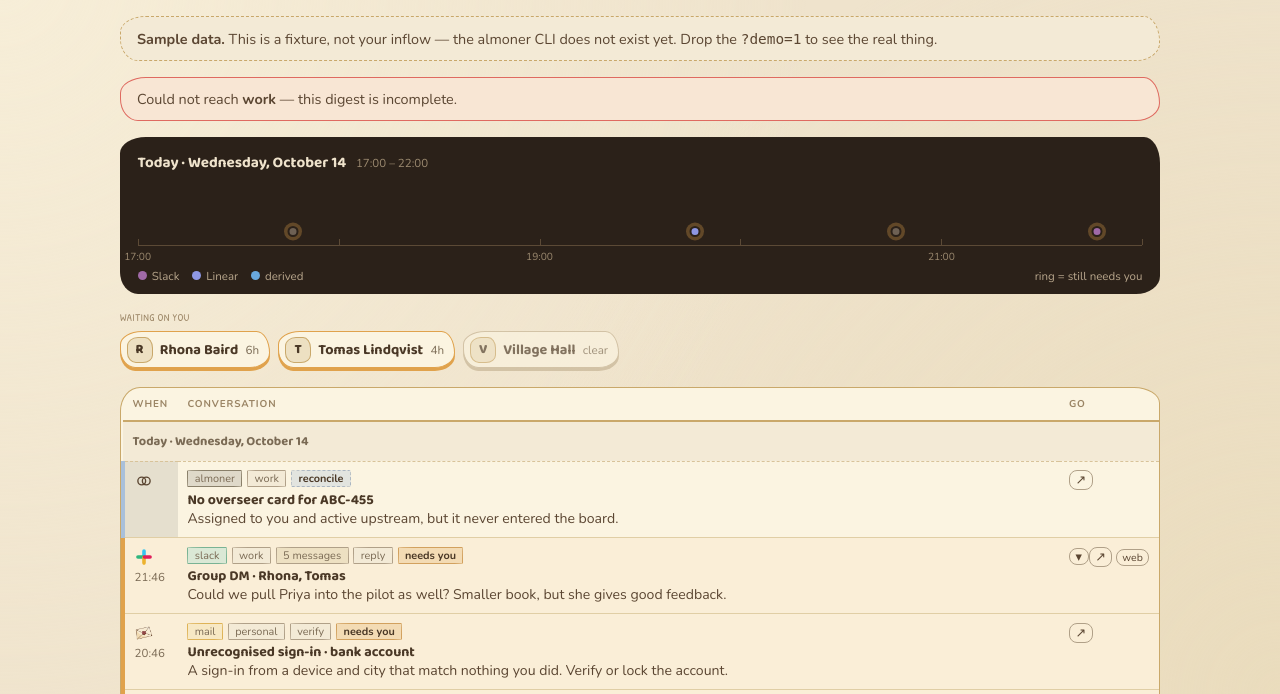
Test: AlmonerPage › explains, in the open conversation, why the row is classified as it is
The image size is (1280, 694).
Step 1. Click the button named "Show 5 messages" → point(1079, 556), box [1069,548,1088,564]
(page scrolled)
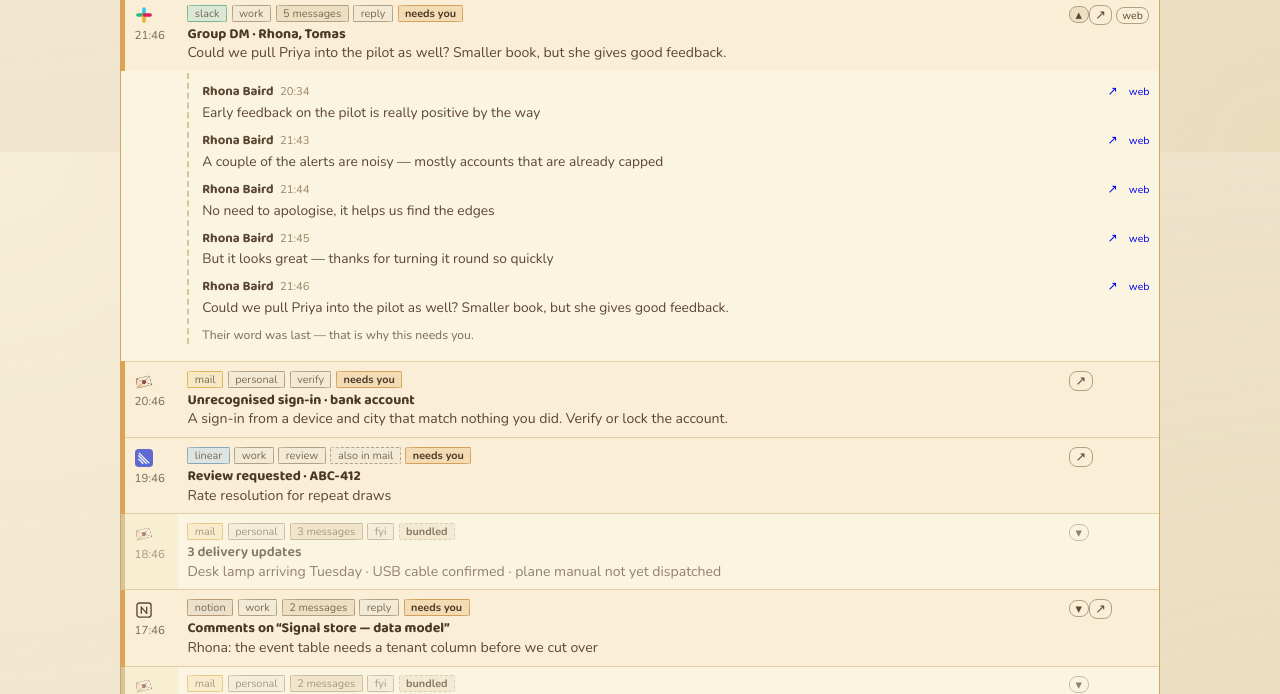
Now the text "Their word was last — that is why this needs you." is shown, box [202,327,474,343]
